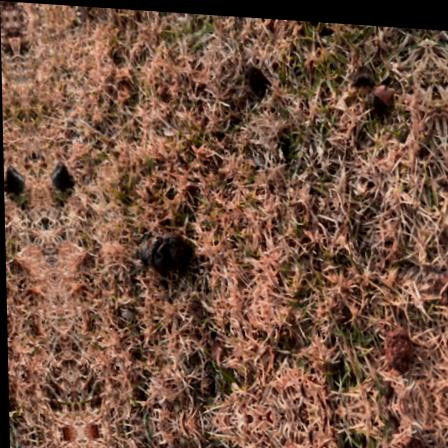dog-poop: (129, 221, 186, 270), (42, 157, 78, 189), (240, 58, 269, 95), (3, 164, 32, 195)
